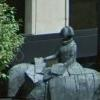Statue: (48, 17, 83, 85)
